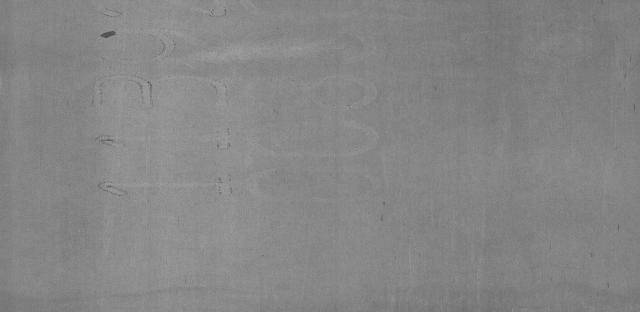oil_spot: (91, 26, 123, 44)
